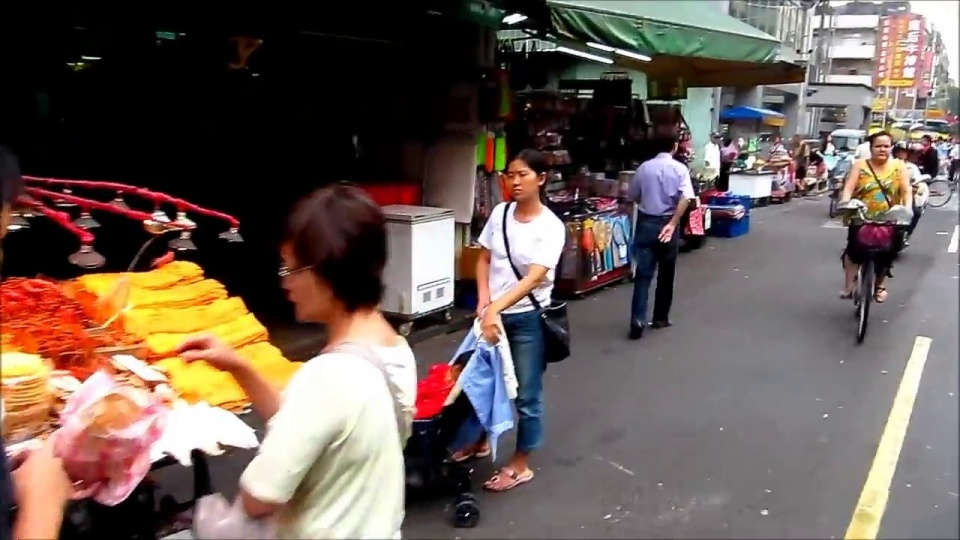person_head: (279, 184, 390, 325), (503, 151, 554, 216), (0, 148, 24, 237), (870, 130, 892, 163), (452, 346, 471, 384), (657, 123, 679, 154), (893, 140, 909, 163), (821, 132, 836, 150), (708, 129, 721, 146), (921, 135, 931, 148), (792, 134, 798, 146), (863, 134, 870, 144), (936, 135, 942, 146), (947, 133, 952, 144), (954, 137, 959, 147)
person_vbox: (179, 181, 420, 540), (449, 148, 564, 492), (0, 147, 75, 540), (626, 122, 695, 339), (836, 131, 912, 303), (891, 138, 930, 243), (416, 351, 476, 418), (915, 134, 939, 187), (791, 133, 809, 199), (816, 132, 839, 180), (703, 131, 721, 179), (946, 137, 959, 181), (810, 150, 826, 180), (854, 134, 872, 159), (936, 135, 944, 177), (945, 135, 953, 161)
